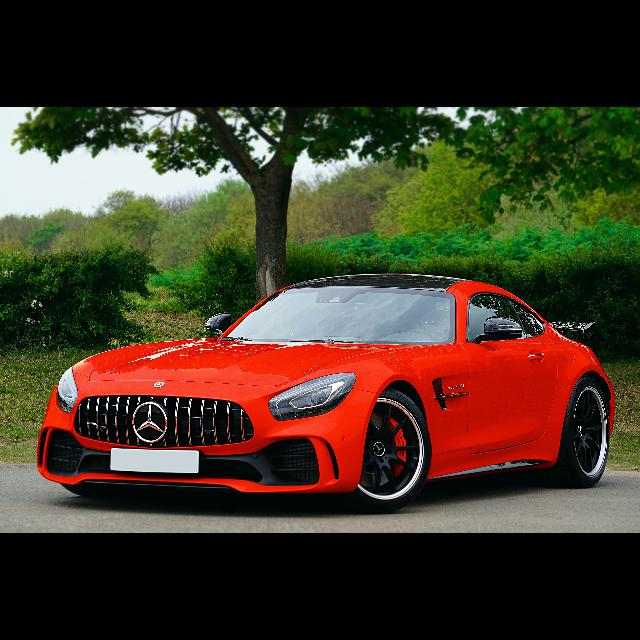cars: (31, 264, 618, 516)
